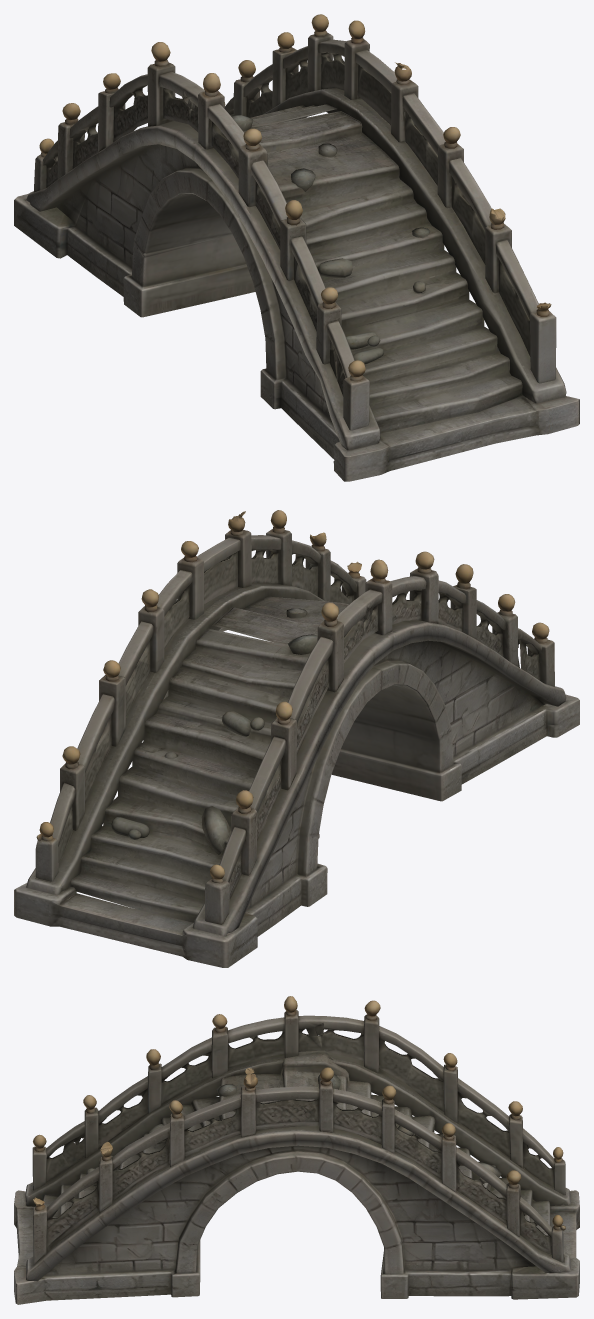
The model's file is 桥梁3d模型.glb.
3 renders of one model, top to bottom at view 1: azimuth 30°, elevation 25°; view 2: azimuth 150°, elevation 25°; view 3: azimuth 270°, elevation 25°, orthographic. The views are drawn at different scales.
Visible parts, largest first — view 1: af00df46_18d9_4b9d_b6de_53d8a71d7c56; view 2: af00df46_18d9_4b9d_b6de_53d8a71d7c56; view 3: af00df46_18d9_4b9d_b6de_53d8a71d7c56.
Part boxes in pixels (x1=…): af00df46_18d9_4b9d_b6de_53d8a71d7c56: x1=14, y1=14, x2=579, y2=481; af00df46_18d9_4b9d_b6de_53d8a71d7c56: x1=14, y1=510, x2=579, y2=967; af00df46_18d9_4b9d_b6de_53d8a71d7c56: x1=14, y1=996, x2=579, y2=1304.
Bounding box in the file's own units: 0.394 × 0.4575 × 0.9995.
Materials: 1 (1 with a texture image).
